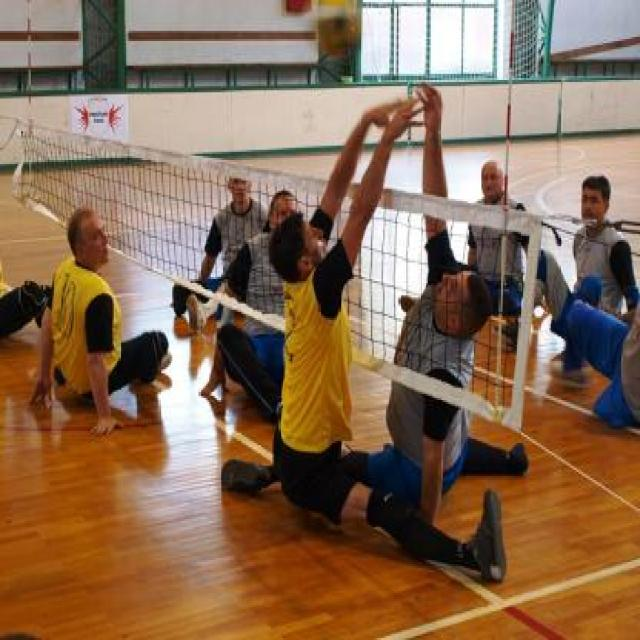Volleyball: (314, 0, 360, 56)
